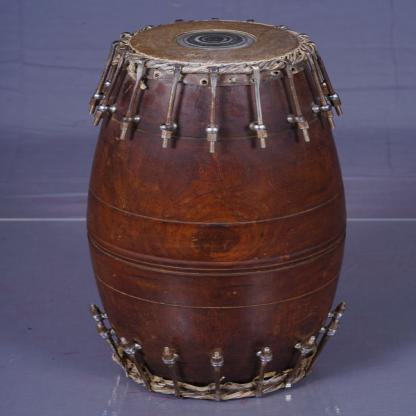Mridangam: (76, 12, 356, 412)
